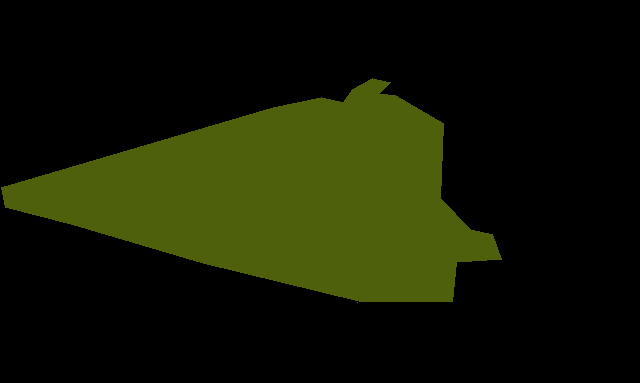Train: (1, 78, 501, 303)
